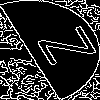Z: (25, 25, 98, 72)
